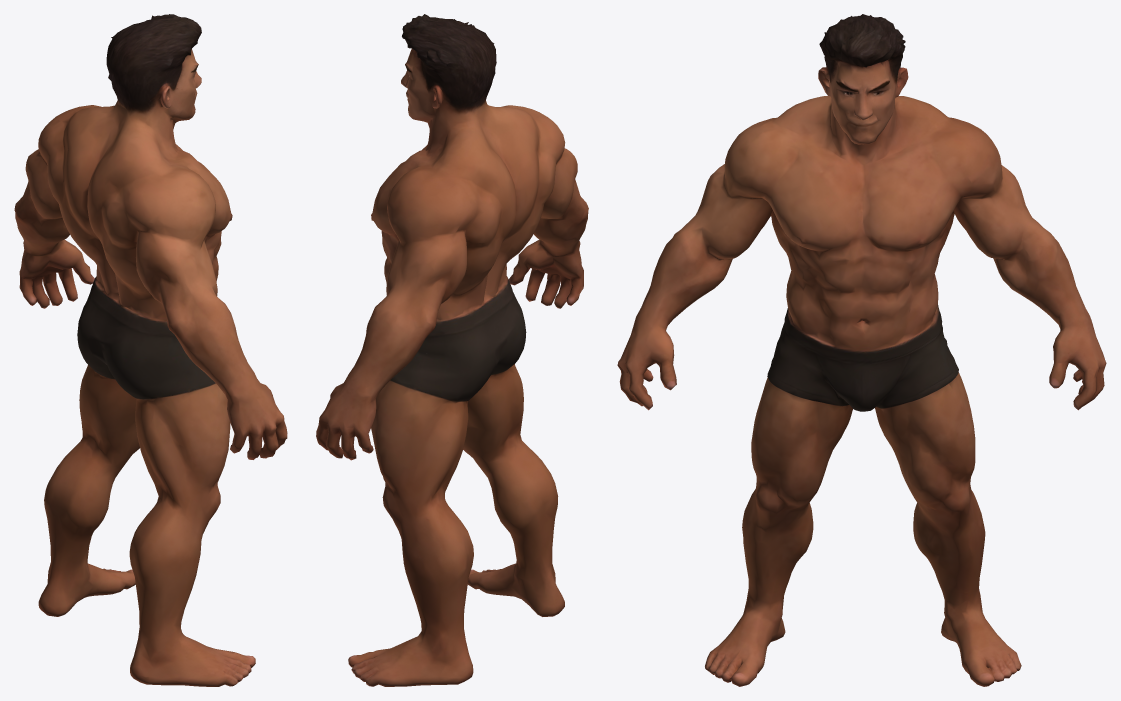
The model's file is base_body_raw.glb.
The picture shows the model from 3 angles, left to right: view 1: azimuth 30°, elevation 25°; view 2: azimuth 150°, elevation 25°; view 3: azimuth 270°, elevation 25°; orthographic projection. The views are drawn at different scales.
Parts seen in each view (by area): view 1: tripo_node_01a2131d-55ce-763a-8118-c5c7da2c2ca4; view 2: tripo_node_01a2131d-55ce-763a-8118-c5c7da2c2ca4; view 3: tripo_node_01a2131d-55ce-763a-8118-c5c7da2c2ca4.
Boxes of the visible parts, box(x1,y1,x2,y2) form: tripo_node_01a2131d-55ce-763a-8118-c5c7da2c2ca4: box(14, 14, 287, 686); tripo_node_01a2131d-55ce-763a-8118-c5c7da2c2ca4: box(316, 14, 588, 686); tripo_node_01a2131d-55ce-763a-8118-c5c7da2c2ca4: box(617, 14, 1106, 686).
Size of the model in its own units: 0.2222 by 1 by 0.6806.
1 material, 1 textured.
